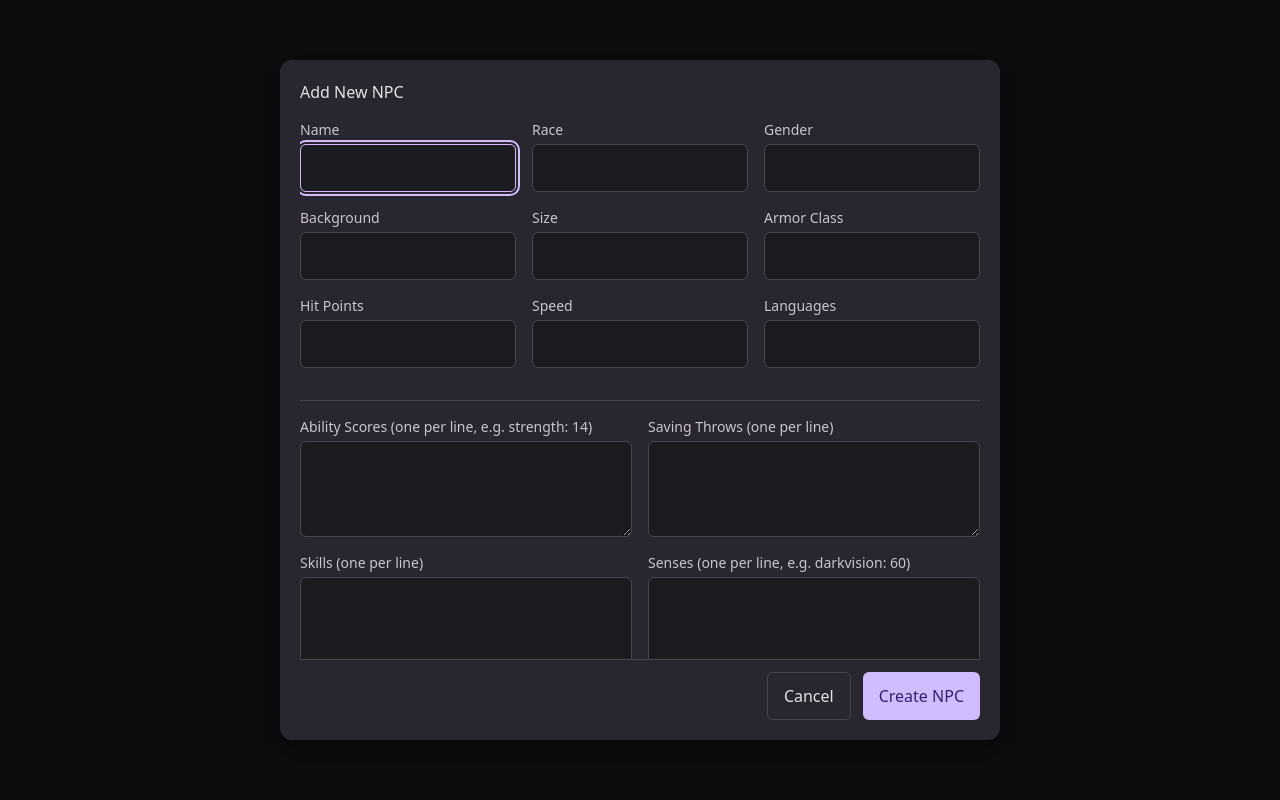
Test: NPCEditor › Dialog contract › reports save status via an accessible status region
Step 1. Type "Failed NPC" into the field labelled "Name" → (408, 168), box [300, 144, 516, 192]
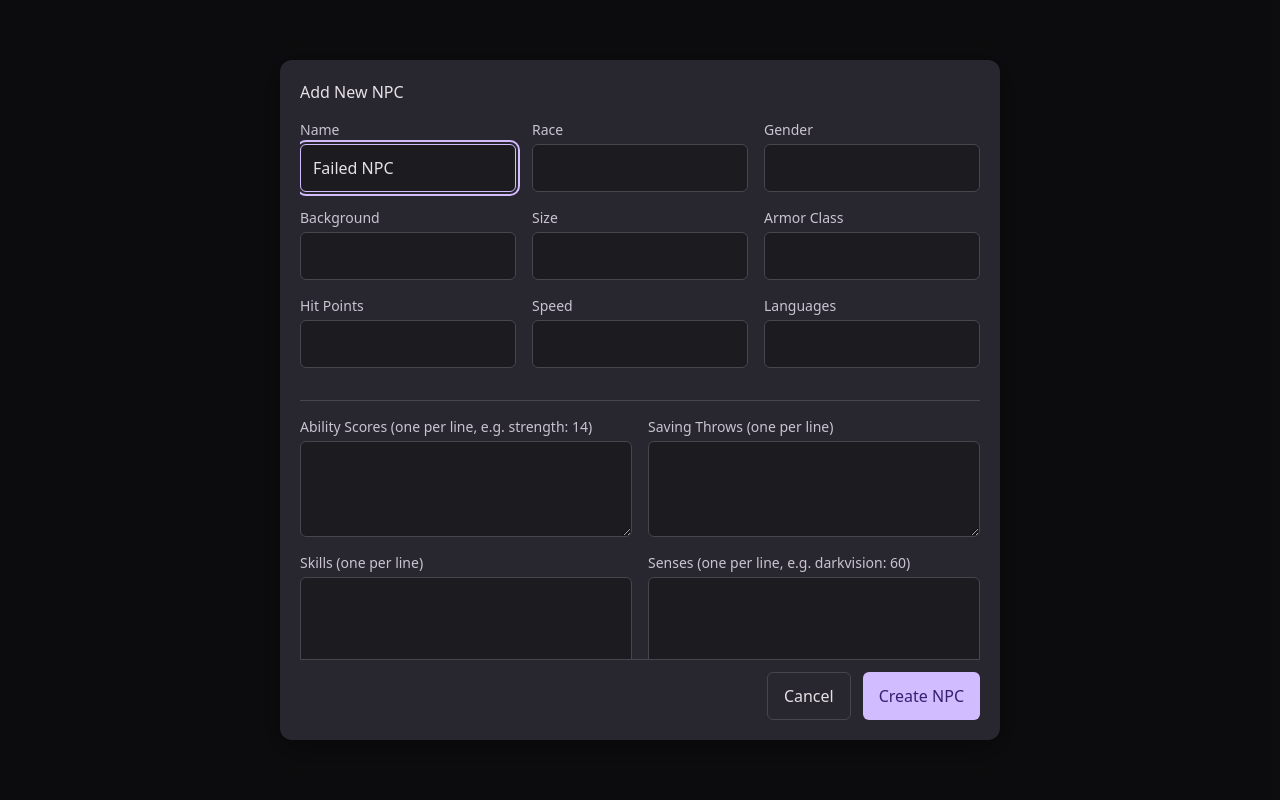
Step 2. Click the button "Create NPC" → click(921, 696), box [863, 672, 980, 720]
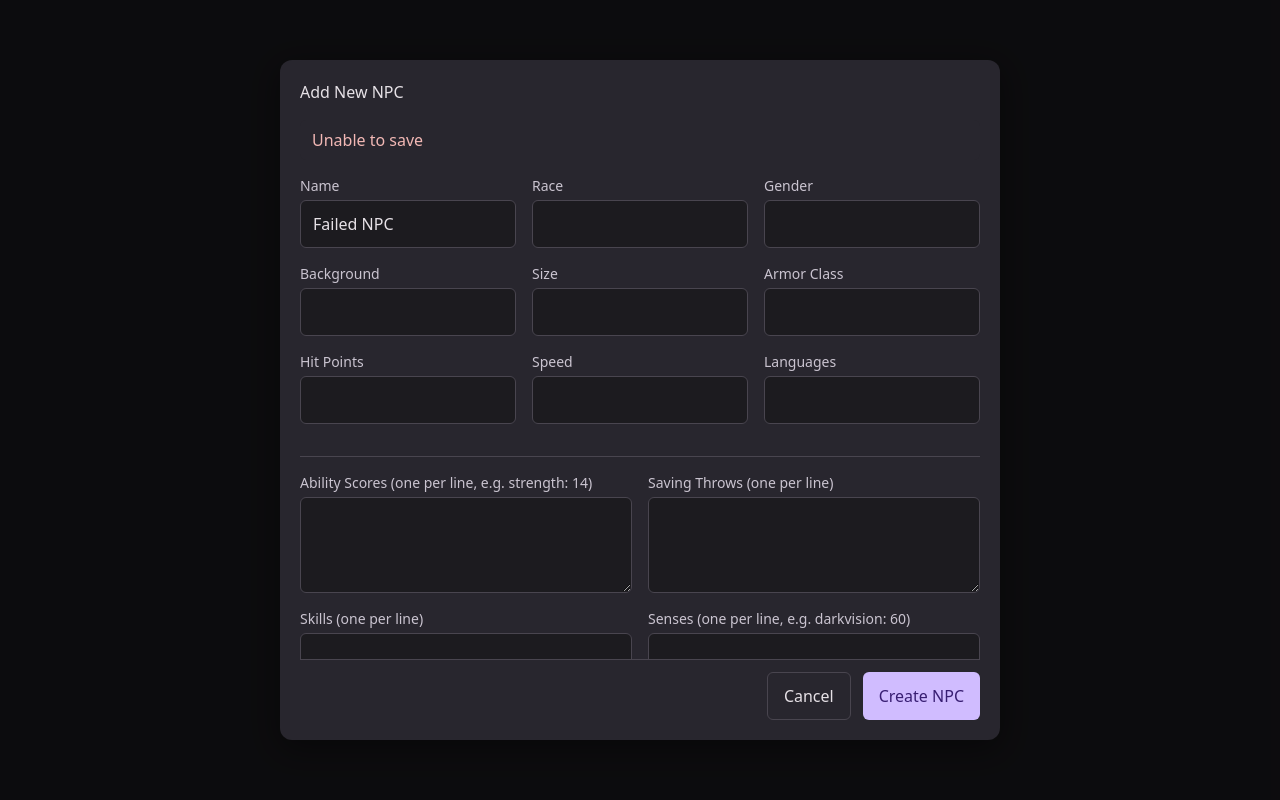
Check: the message reads "Unable to save", box [312, 129, 423, 151]
